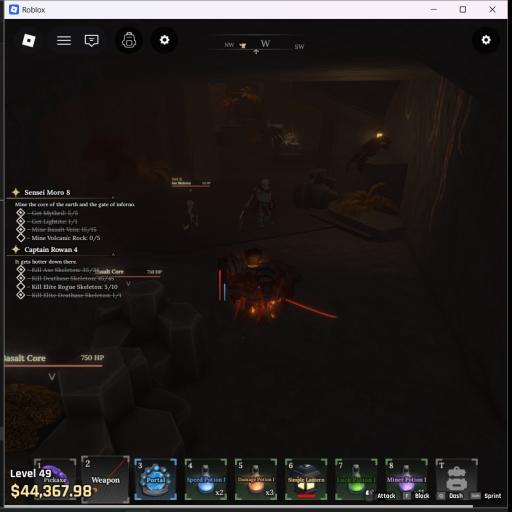player: (218, 248, 302, 311)
rock: (33, 348, 193, 460), (91, 281, 206, 388), (294, 168, 337, 209)
